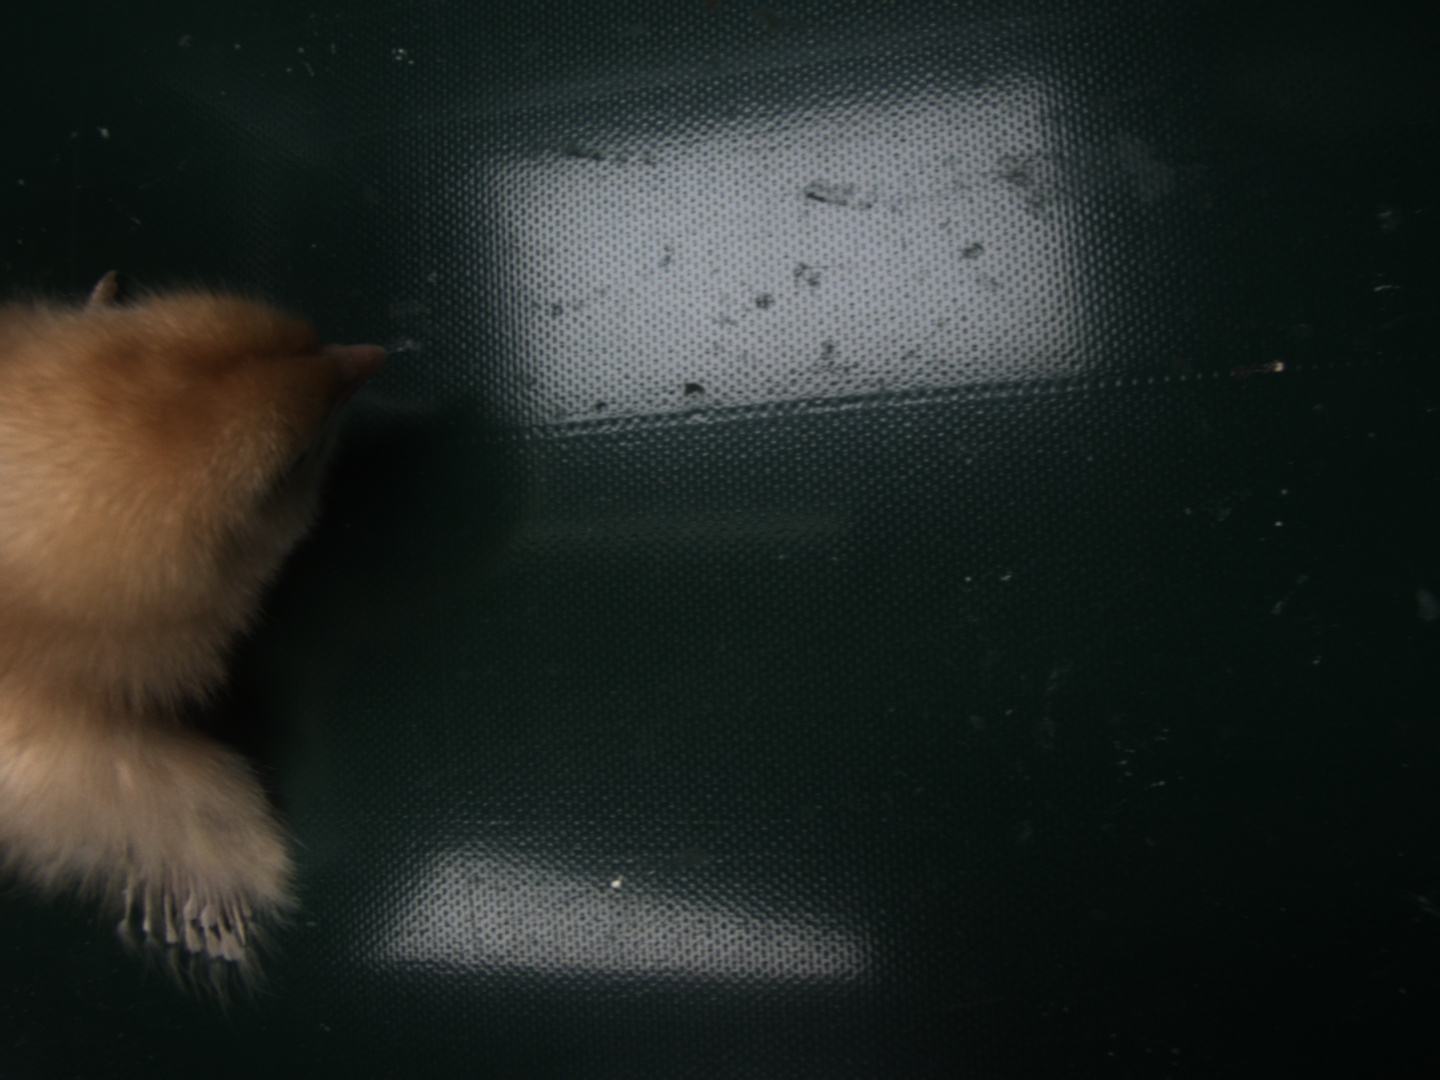female: (116, 871, 259, 967)
